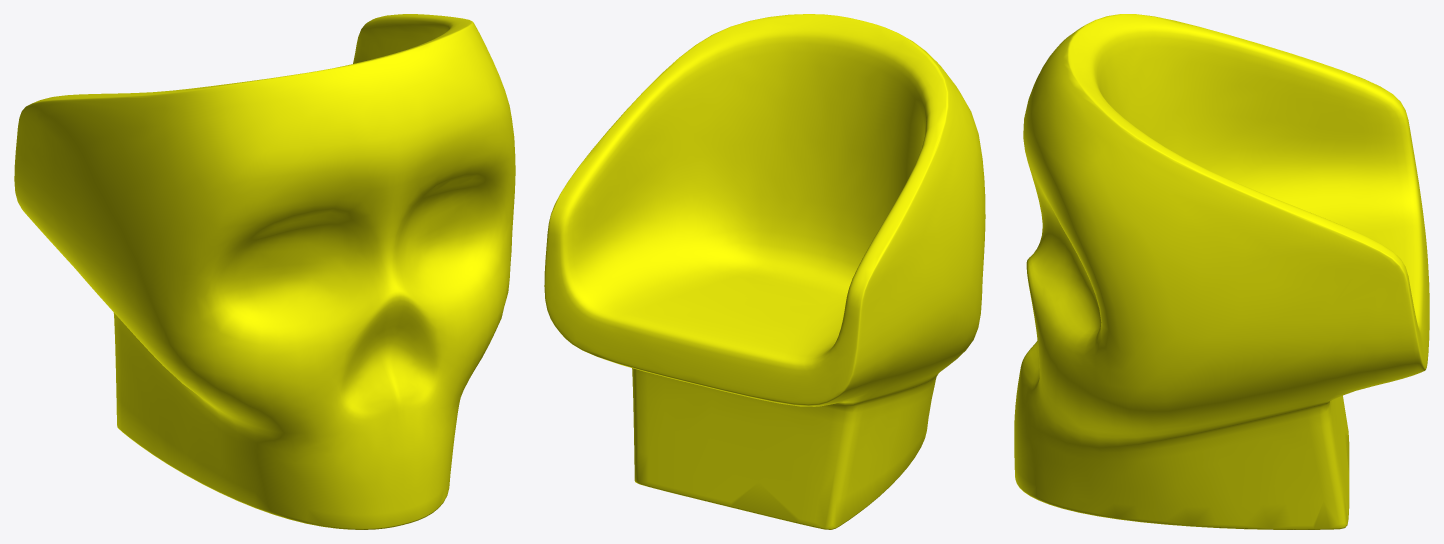
Rendered from designconnected-jolly-roger-8903.optimized.glb.
3 renders of one model, left to right at view 1: azimuth 30°, elevation 25°; view 2: azimuth 150°, elevation 25°; view 3: azimuth 270°, elevation 25°, orthographic. The views are drawn at different scales.
Parts seen in each view (by area): view 1: Gufram_Jolly_Roger_mat1; view 2: Gufram_Jolly_Roger_mat1; view 3: Gufram_Jolly_Roger_mat1.
Boxes of the visible parts, left/top/right/bottom form: Gufram_Jolly_Roger_mat1: left=14, top=14, right=515, bottom=529; Gufram_Jolly_Roger_mat1: left=544, top=14, right=985, bottom=529; Gufram_Jolly_Roger_mat1: left=1014, top=14, right=1429, bottom=529.
Bounding box in the file's own units: 0.7328 × 0.849 × 0.7572.
